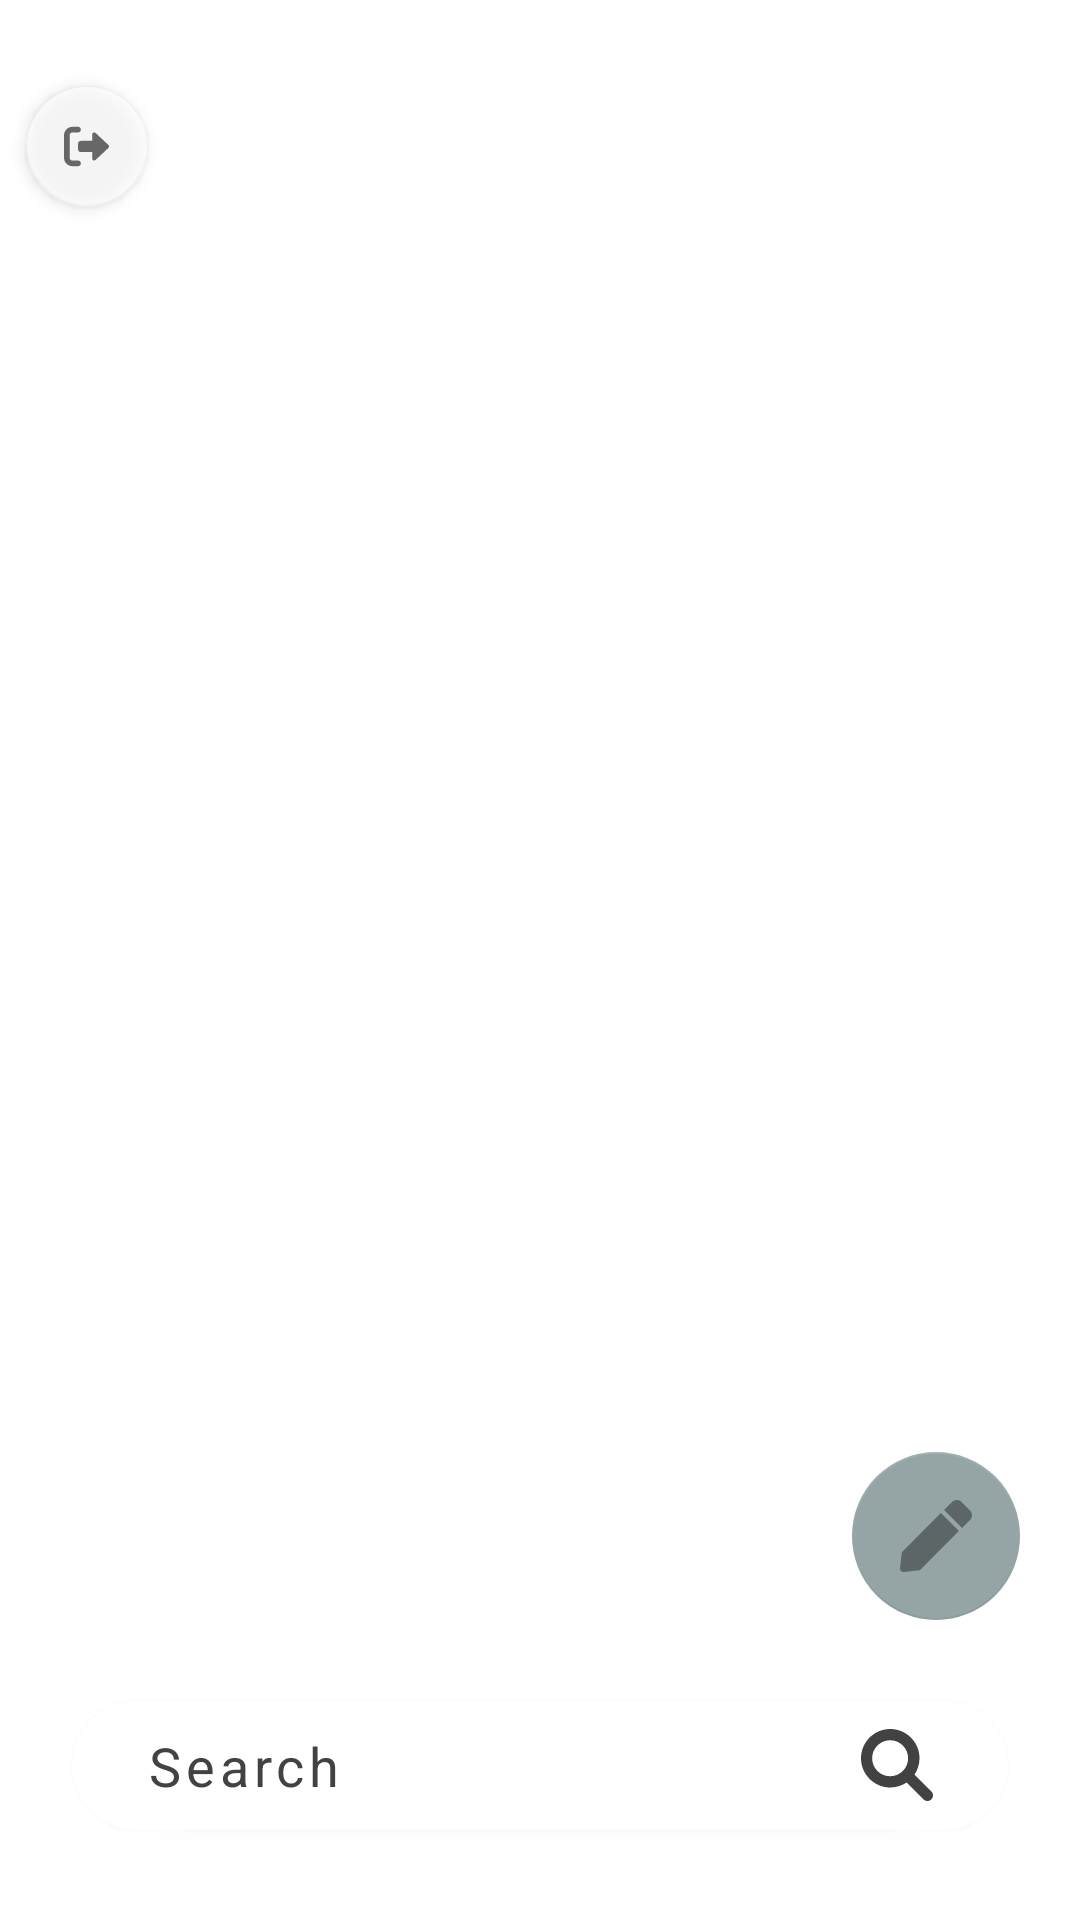

Screen size 1080 × 1920. Icon name, then its box in pixels as (x1, y1, x2, y2):
pen: (852, 1452, 1020, 1620)
